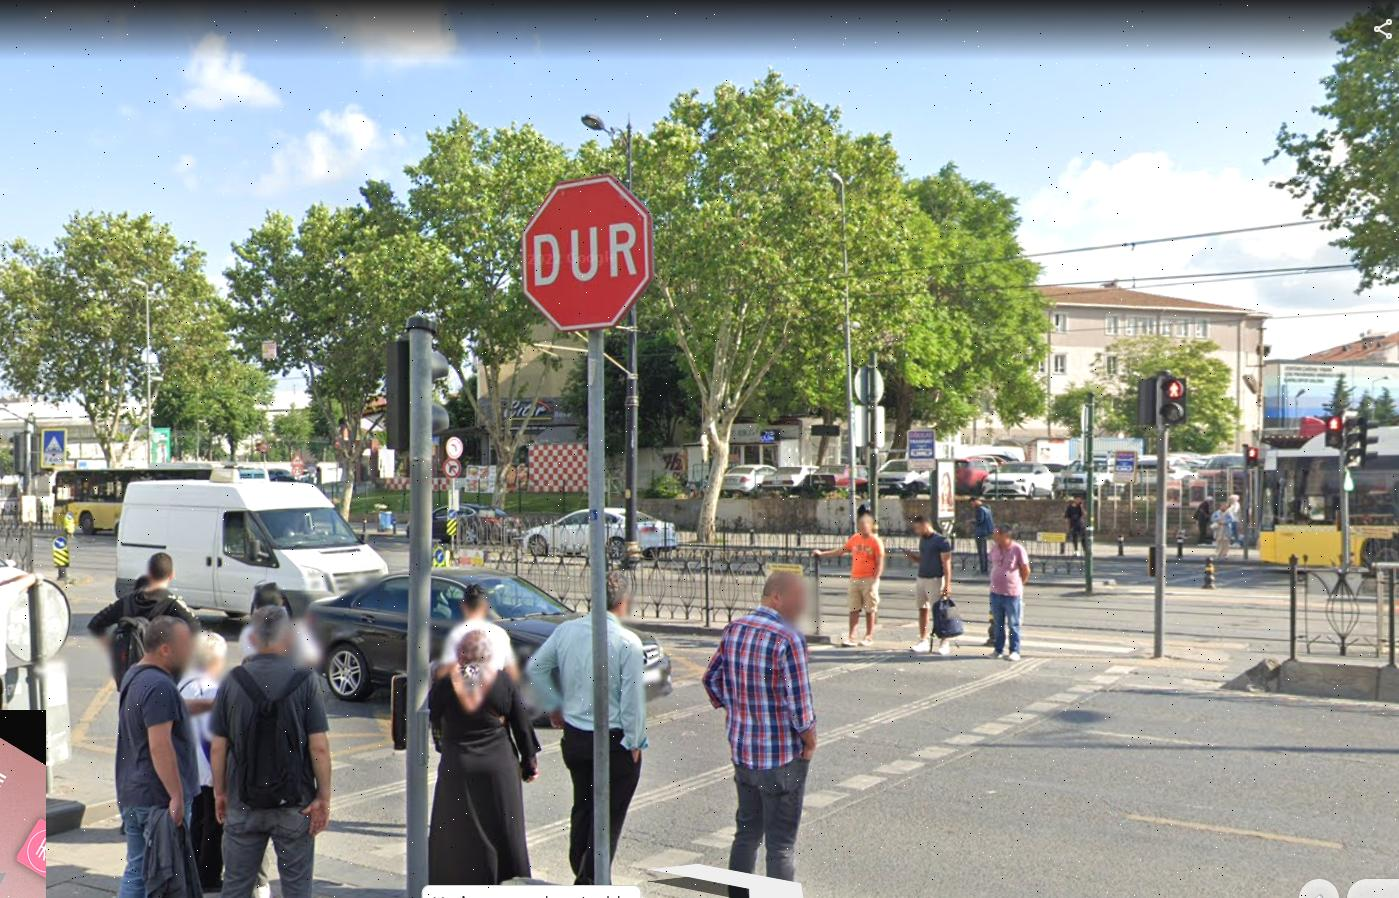stop: (523, 181, 654, 325)
